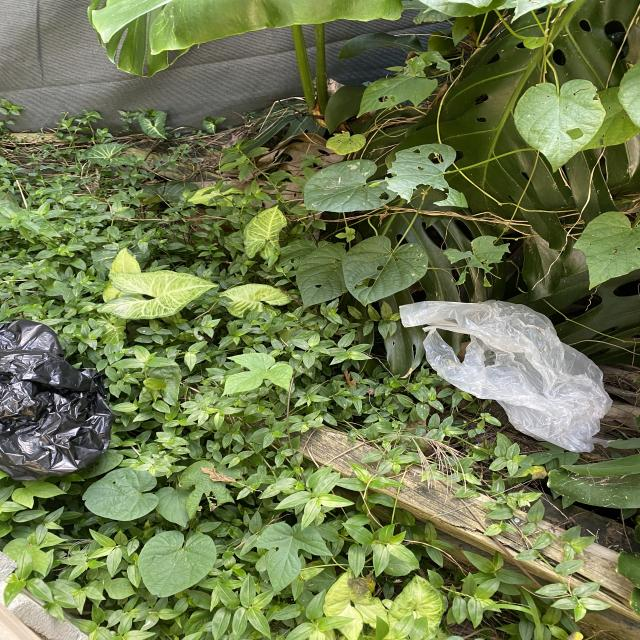bag: (393, 294, 608, 456), (0, 298, 129, 476)
